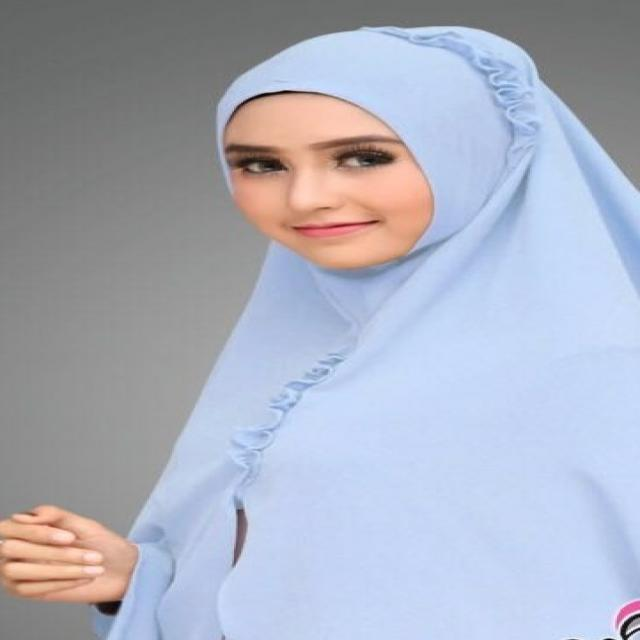head: (207, 24, 616, 279)
